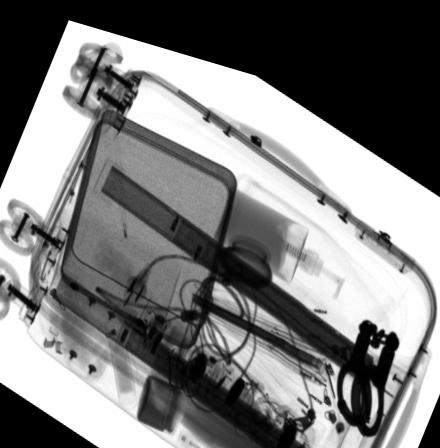HandCuffs: (334, 294, 401, 416)
